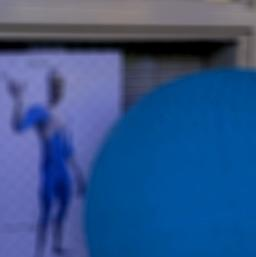algae: (80, 63, 256, 257)
